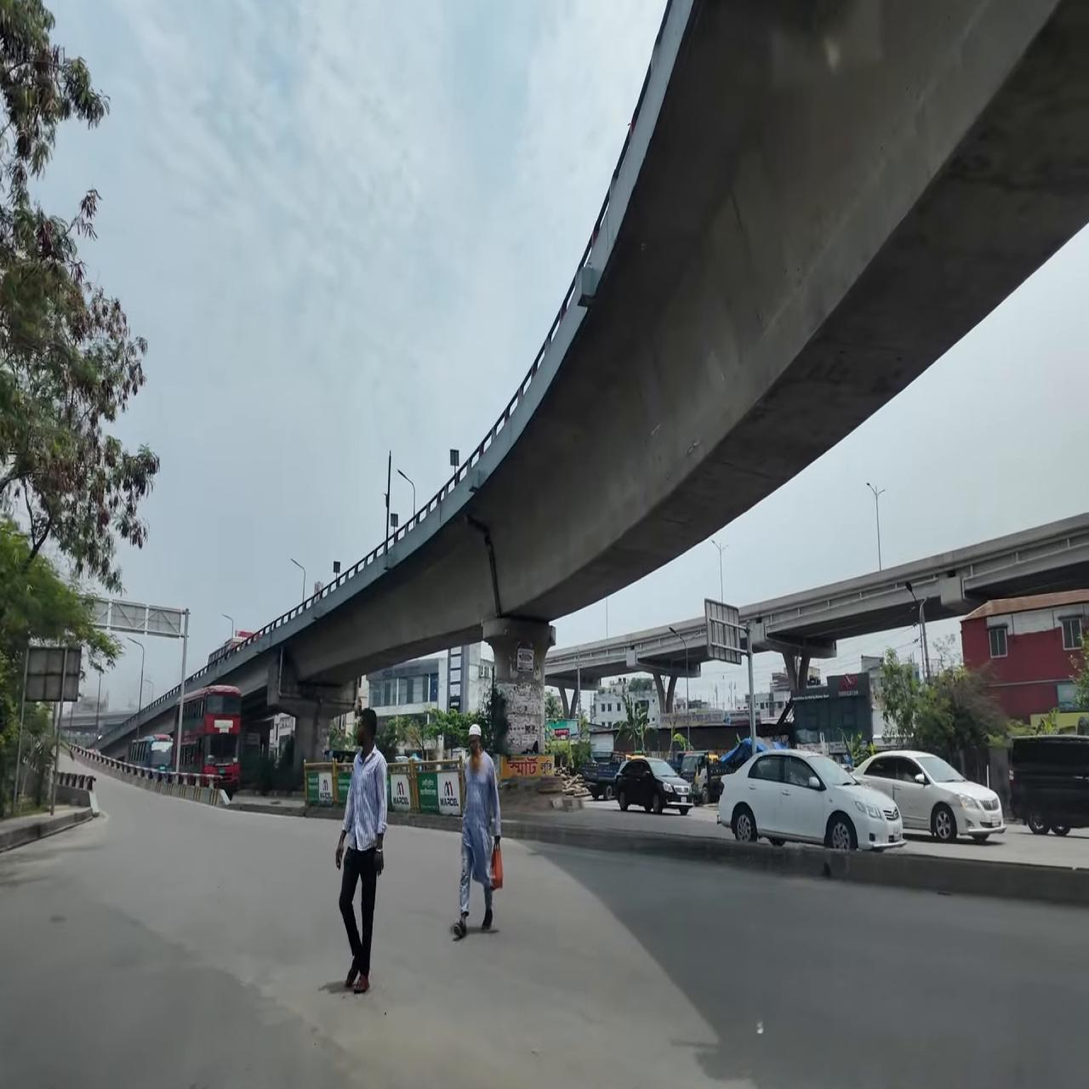person: (335, 708, 389, 994), (450, 719, 506, 941)
